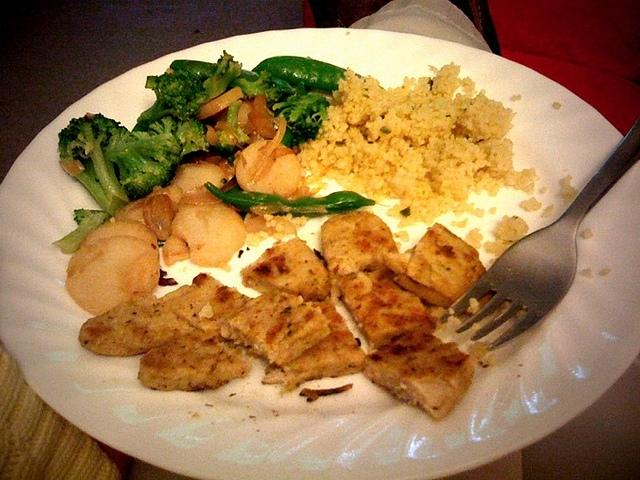broccoli: (56, 112, 129, 216), (104, 132, 182, 198), (137, 68, 212, 126), (52, 208, 112, 254), (284, 92, 328, 144), (230, 70, 284, 108), (202, 50, 242, 100), (161, 116, 178, 134)
potato: (66, 236, 160, 316), (235, 139, 302, 199), (170, 160, 230, 205), (80, 218, 158, 250), (143, 192, 175, 241), (114, 198, 146, 226)
